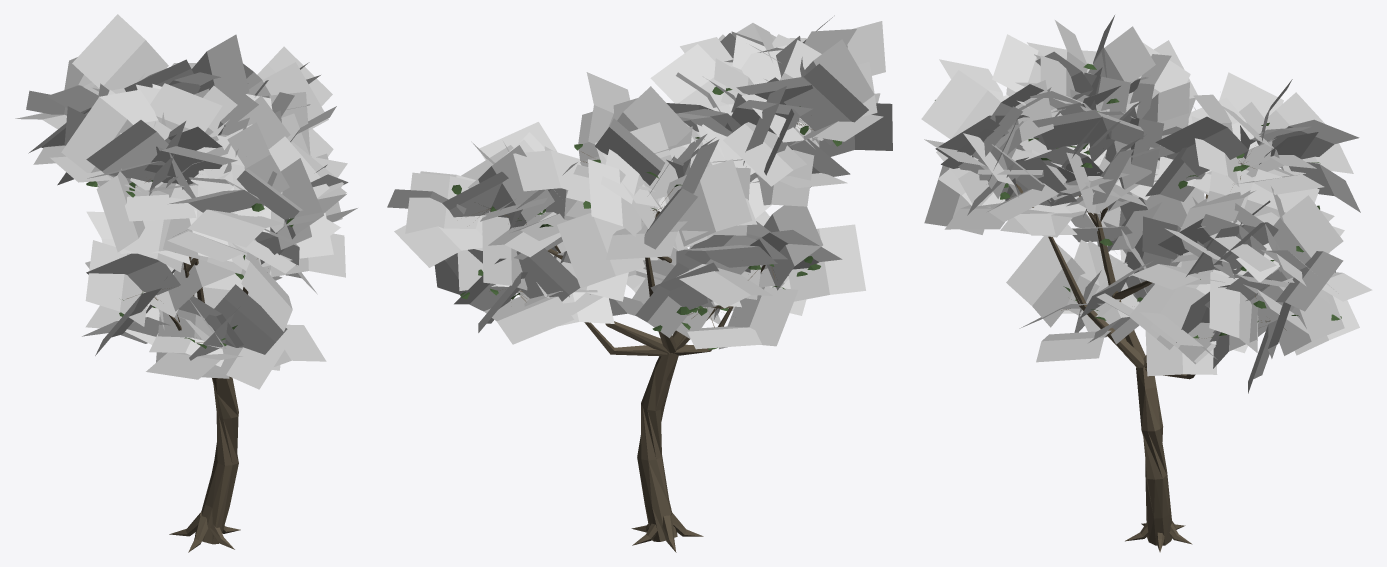
The model's file is CheneVert_Ancien_LOD2.fbx.
3 views of the same model, side by side, from view 1: azimuth 30°, elevation 25°; view 2: azimuth 150°, elevation 25°; view 3: azimuth 270°, elevation 25° (orthographic). The views are drawn at different scales.
Parts seen in each view (by area): view 1: CheneVert_Ancien_LOD2; view 2: CheneVert_Ancien_LOD2; view 3: CheneVert_Ancien_LOD2.
Part boxes in pixels (x1,y1,x2,y2): CheneVert_Ancien_LOD2: (15,14,357,552); CheneVert_Ancien_LOD2: (387,15,892,552); CheneVert_Ancien_LOD2: (921,15,1372,552).
Bounding box in the file's own units: 717 × 896 × 786.
